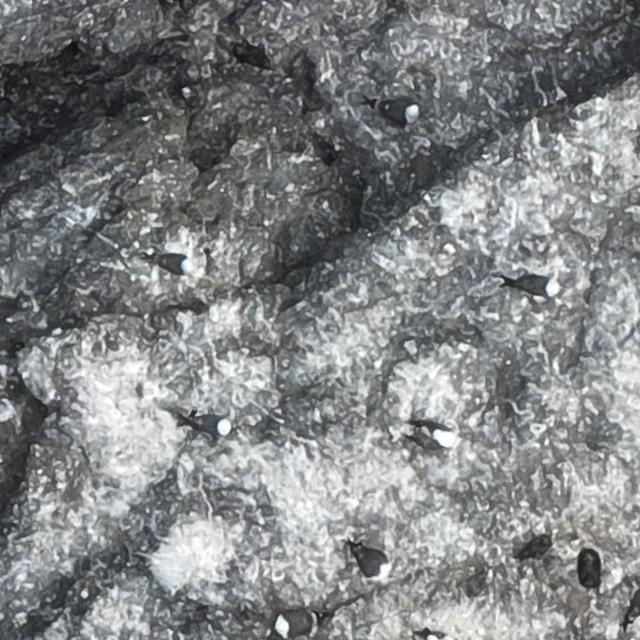umineko: (412, 422, 458, 448), (353, 545, 390, 576), (505, 274, 557, 294), (375, 98, 420, 120), (150, 251, 194, 272), (186, 415, 229, 435), (277, 612, 312, 636)
